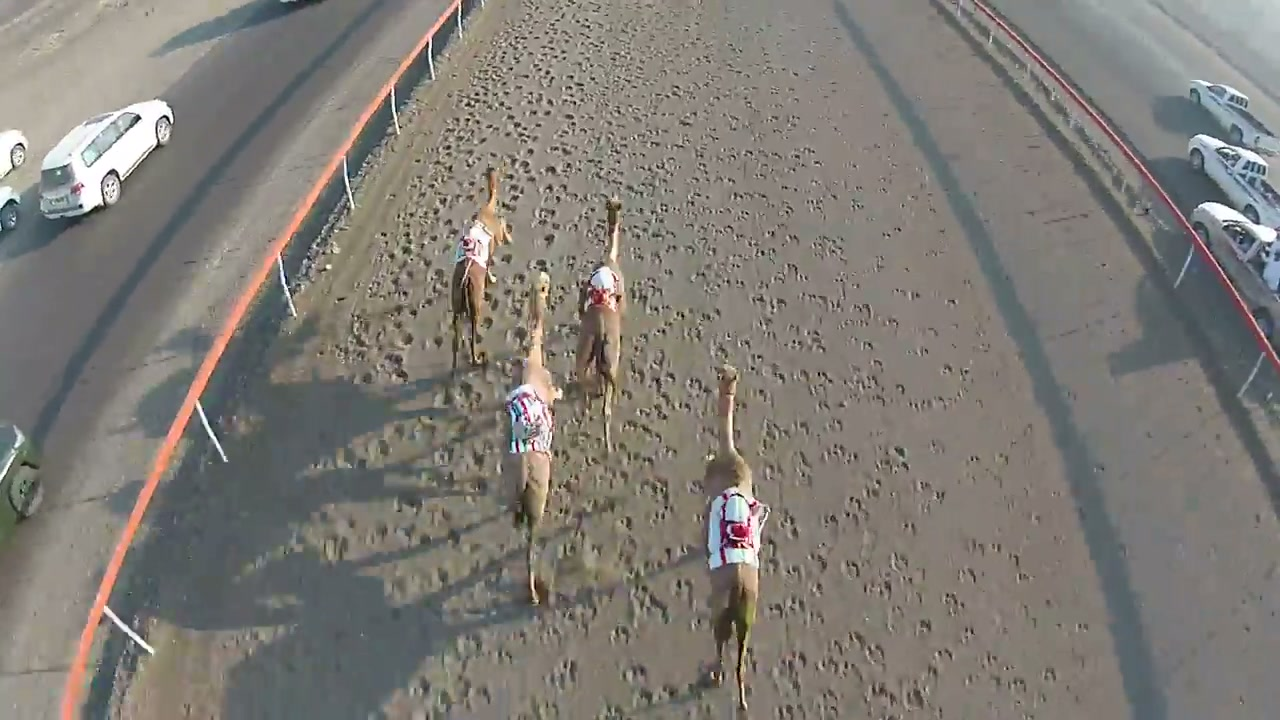animal_foot_print: (364, 9, 586, 719), (730, 68, 948, 709), (629, 64, 748, 698), (535, 27, 657, 551)
